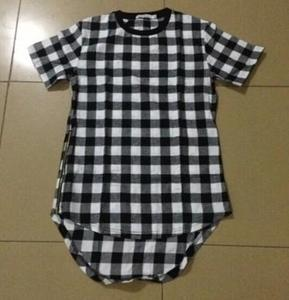C_T-shirt: (24, 8, 273, 287)
